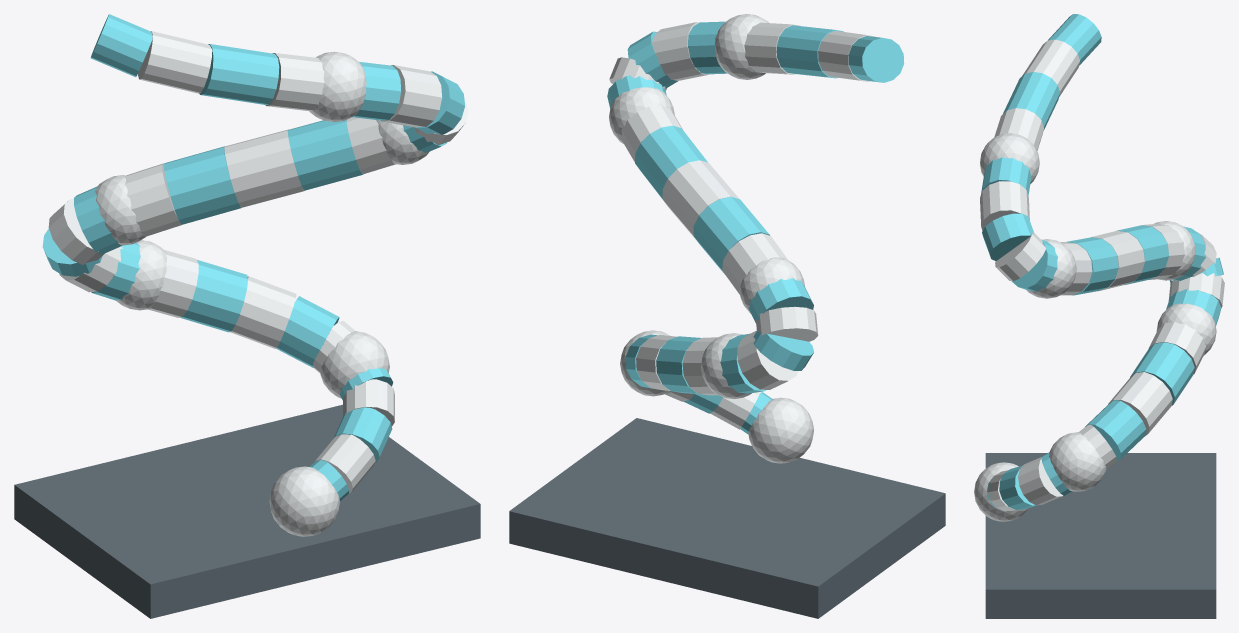
The model's file is folded-ribbon.glb.
3 renders of one model, left to right at view 1: azimuth 30°, elevation 25°; view 2: azimuth 150°, elevation 25°; view 3: azimuth 270°, elevation 25°, orthographic. The views are drawn at different scales.
Visible parts, largest first — view 1: folded-ribbon-35, folded-ribbon-17, folded-ribbon-16, folded-ribbon-29, folded-ribbon-18, folded-ribbon-26, folded-ribbon-27, folded-ribbon-8, folded-ribbon-7, folded-ribbon-34, folded-ribbon-15, folded-ribbon-30 (+20 smaller); view 2: folded-ribbon-35, folded-ribbon-29, folded-ribbon-17, folded-ribbon-16, folded-ribbon-18, folded-ribbon-28, folded-ribbon-26, folded-ribbon-34, folded-ribbon-23, folded-ribbon-15, folded-ribbon-13, folded-ribbon-11 (+18 smaller); view 3: folded-ribbon-35, folded-ribbon-30, folded-ribbon-7, folded-ribbon-8, folded-ribbon-6, folded-ribbon-26, folded-ribbon-23, folded-ribbon-27, folded-ribbon-22, folded-ribbon-34, folded-ribbon-17, folded-ribbon-18 (+22 smaller).
Part boxes in pixels (<box>): folded-ribbon-35: <box>14,404,480,618</box>; folded-ribbon-17: <box>224,129,303,207</box>; folded-ribbon-16: <box>163,146,240,224</box>; folded-ribbon-29: <box>269,466,339,536</box>; folded-ribbon-18: <box>287,120,363,190</box>; folded-ribbon-26: <box>199,44,279,104</box>; folded-ribbon-27: <box>138,31,212,93</box>; folded-ribbon-8: <box>180,260,247,332</box>; folded-ribbon-7: <box>230,276,296,348</box>; folded-ribbon-34: <box>309,51,366,122</box>; folded-ribbon-15: <box>124,163,181,236</box>; folded-ribbon-30: <box>320,331,389,398</box>; folded-ribbon-35: <box>509,418,945,618</box>; folded-ribbon-29: <box>748,397,813,463</box>; folded-ribbon-17: <box>662,160,739,239</box>; folded-ribbon-16: <box>693,197,769,274</box>; folded-ribbon-18: <box>635,125,707,198</box>; folded-ribbon-28: <box>848,36,904,82</box>; folded-ribbon-26: <box>776,25,843,78</box>; folded-ribbon-34: <box>715,14,768,79</box>; folded-ribbon-23: <box>652,22,708,80</box>; folded-ribbon-15: <box>722,233,788,295</box>; folded-ribbon-13: <box>756,306,818,341</box>; folded-ribbon-11: <box>737,330,798,389</box>; folded-ribbon-35: <box>985,453,1216,618</box>; folded-ribbon-30: <box>1049,432,1106,491</box>; folded-ribbon-7: <box>1108,372,1172,436</box>; folded-ribbon-8: <box>1130,342,1194,405</box>; folded-ribbon-6: <box>1085,400,1146,461</box>; folded-ribbon-26: <box>1003,72,1060,130</box>; folded-ribbon-23: <box>980,181,1029,230</box>; folded-ribbon-27: <box>1022,39,1079,96</box>; folded-ribbon-22: <box>982,213,1034,260</box>; folded-ribbon-34: <box>980,133,1039,183</box>; folded-ribbon-17: <box>1091,230,1144,291</box>; folded-ribbon-18: <box>1067,237,1118,295</box>.
Bounding box in the file's own units: 1.44 × 2.26 × 1.09.
